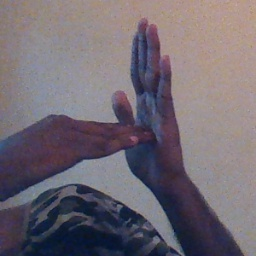Z: (72, 18, 186, 183)
